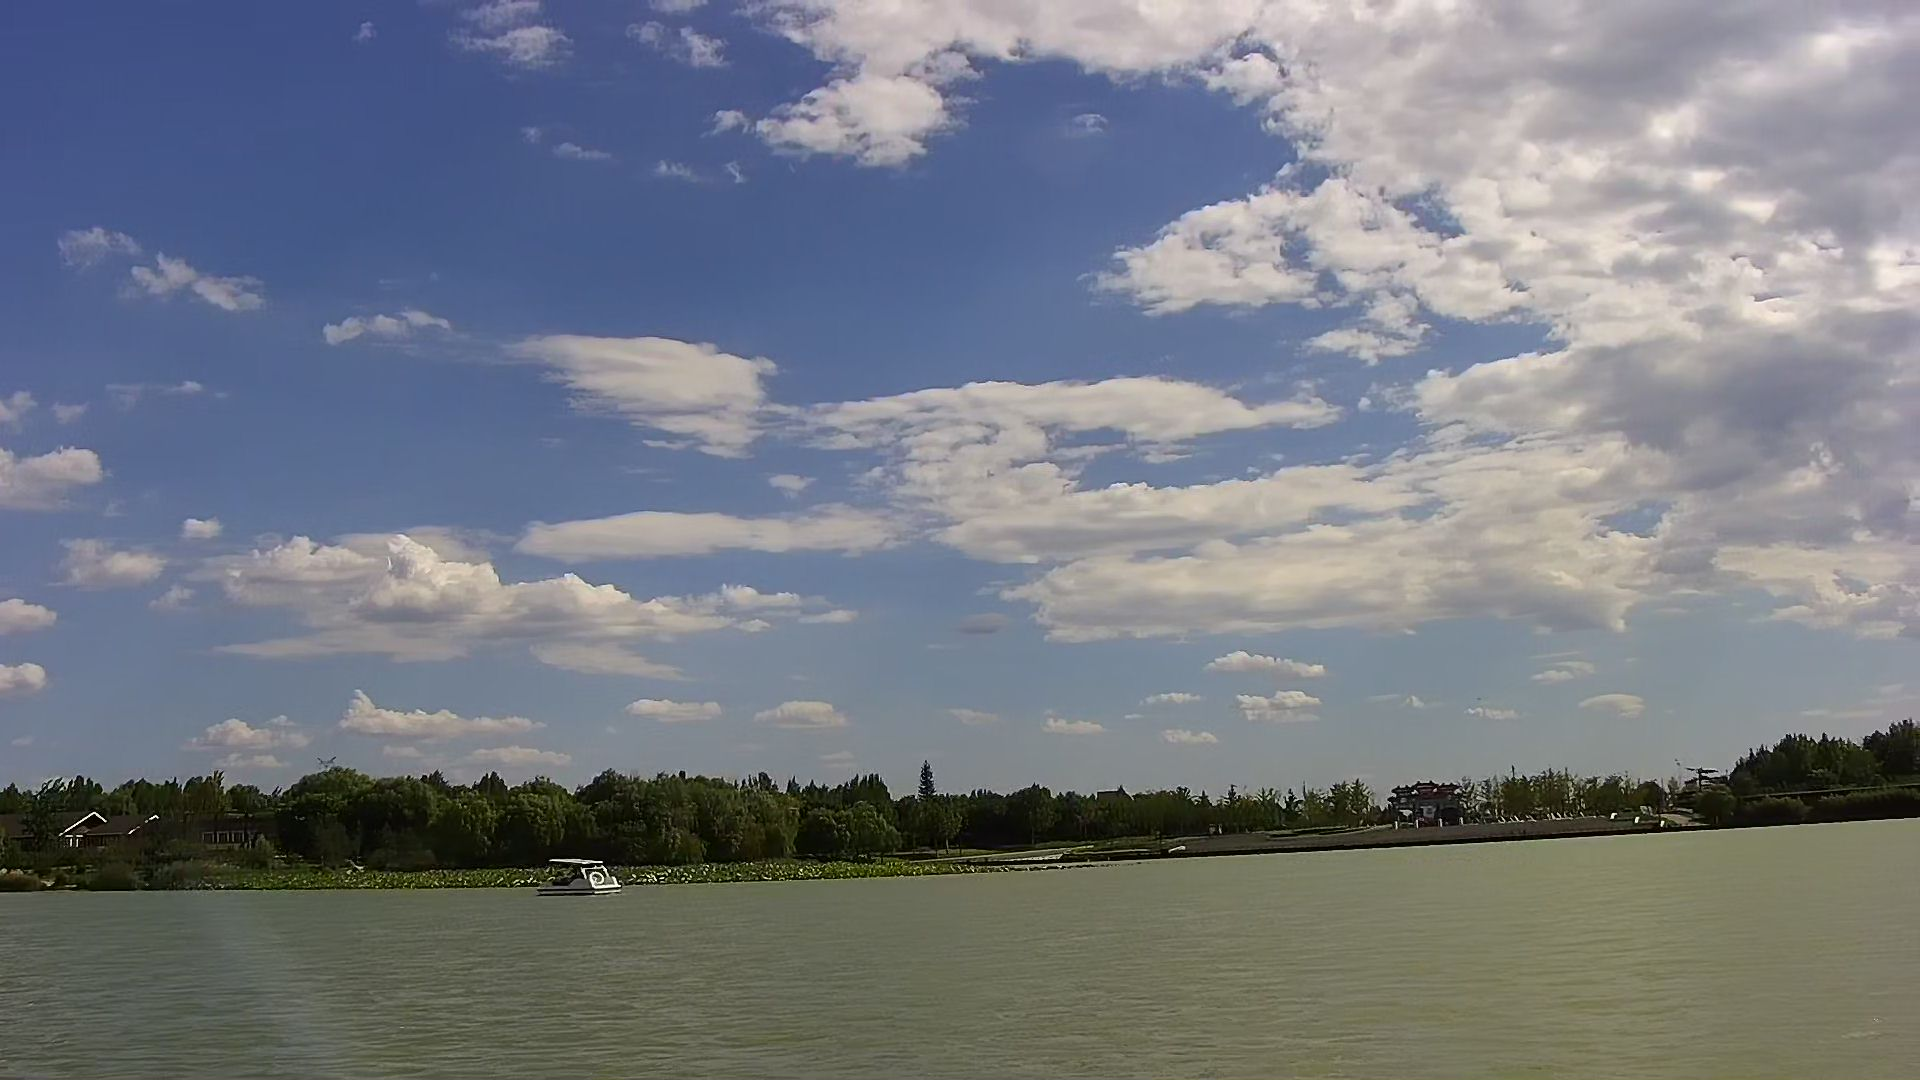boat: (539, 855, 622, 899)
